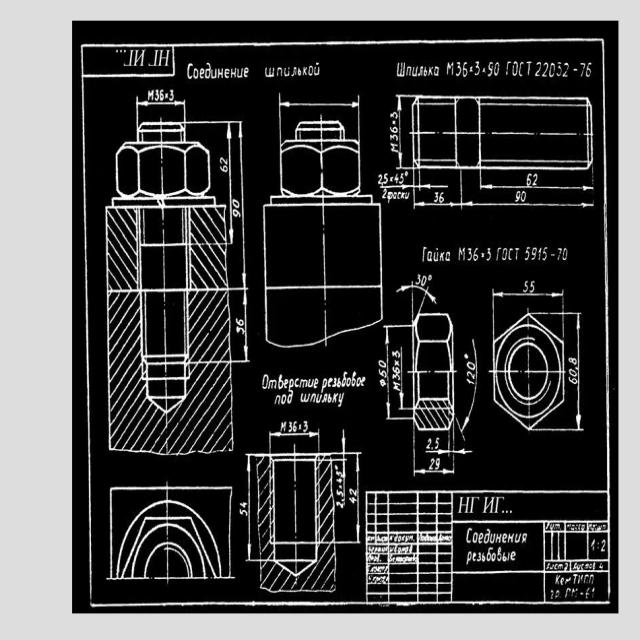marking_line: (457, 339, 479, 433), (464, 201, 593, 211), (394, 285, 436, 314), (241, 123, 247, 285), (245, 457, 253, 559), (482, 184, 592, 191), (281, 100, 357, 110), (576, 312, 582, 430), (355, 454, 362, 543), (227, 124, 232, 246), (385, 330, 391, 420), (397, 96, 404, 167), (271, 431, 320, 441), (242, 291, 249, 359), (397, 347, 405, 406), (341, 431, 347, 507), (427, 448, 475, 457), (413, 200, 461, 208), (138, 99, 184, 107), (412, 467, 453, 475), (379, 182, 413, 191), (420, 184, 450, 193)
numeric: (535, 62, 569, 80), (389, 111, 401, 144), (335, 467, 343, 511), (465, 360, 477, 387), (525, 247, 547, 261), (455, 61, 468, 82), (580, 58, 594, 77), (413, 274, 429, 290), (524, 171, 541, 186), (155, 90, 178, 101), (487, 60, 501, 78), (232, 197, 242, 220), (426, 436, 440, 450), (376, 171, 389, 186), (557, 248, 570, 263), (468, 247, 480, 263), (218, 157, 228, 175), (348, 485, 357, 504), (473, 60, 481, 80), (515, 191, 528, 203), (428, 458, 441, 470), (434, 191, 446, 203), (394, 173, 406, 185), (522, 281, 535, 292), (240, 500, 248, 515), (486, 245, 492, 262), (382, 189, 388, 199)
